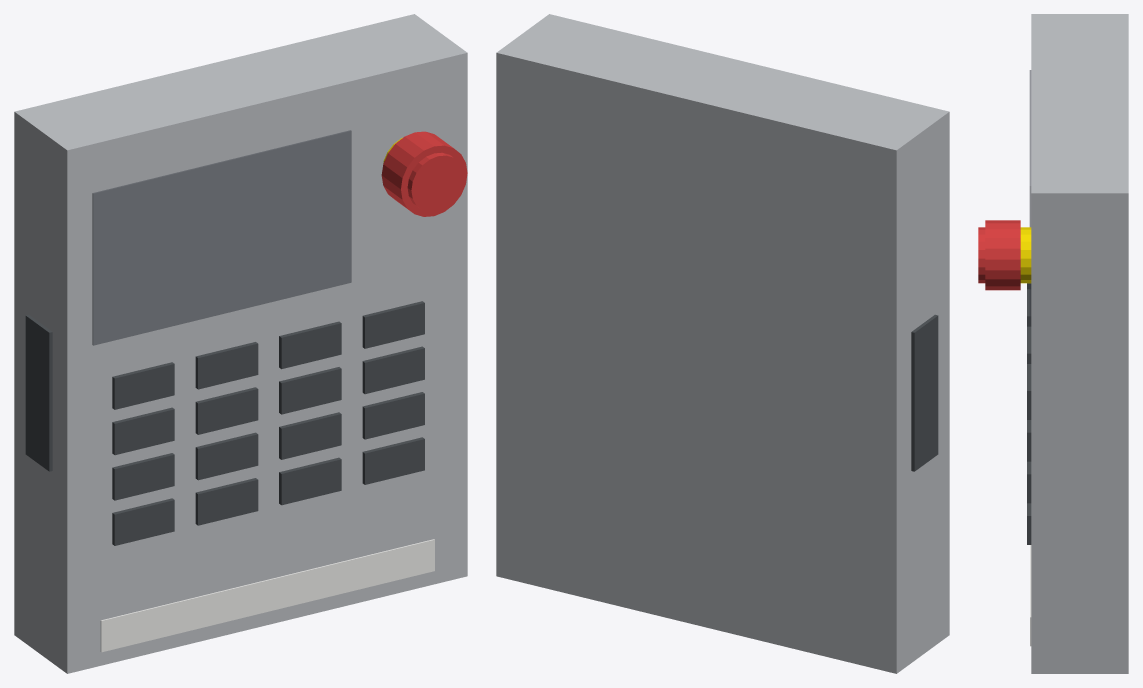
The model's file is teach-pendant.glb.
3 views of the same model, side by side, from view 1: azimuth 30°, elevation 25°; view 2: azimuth 150°, elevation 25°; view 3: azimuth 270°, elevation 25° (orthographic). The views are drawn at different scales.
Visible parts, largest first — view 1: body, screen, estop, enable, key-14, key-6, key-10, key-2, key-15, key-1, key-7, key-12 (+8 smaller); view 2: body, enable; view 3: body, estop, screen, key-4.
Part boxes in pixels (<box>): body: <box>14,14,467,673</box>; screen: <box>92,130,351,345</box>; estop: <box>381,131,467,216</box>; enable: <box>25,314,52,471</box>; key-14: <box>195,478,258,525</box>; key-6: <box>195,387,258,434</box>; key-10: <box>195,432,258,480</box>; key-2: <box>195,342,258,389</box>; key-15: <box>279,457,341,505</box>; key-1: <box>112,362,174,409</box>; key-7: <box>279,367,341,414</box>; key-12: <box>362,392,424,439</box>; body: <box>496,14,949,673</box>; enable: <box>911,314,938,471</box>; body: <box>1020,14,1128,673</box>; estop: <box>978,220,1020,290</box>; screen: <box>1029,70,1031,325</box>; key-4: <box>1027,364,1031,419</box>.
Size of what is drawn, in the model's own units: 0.242 by 0.3 by 0.085.
